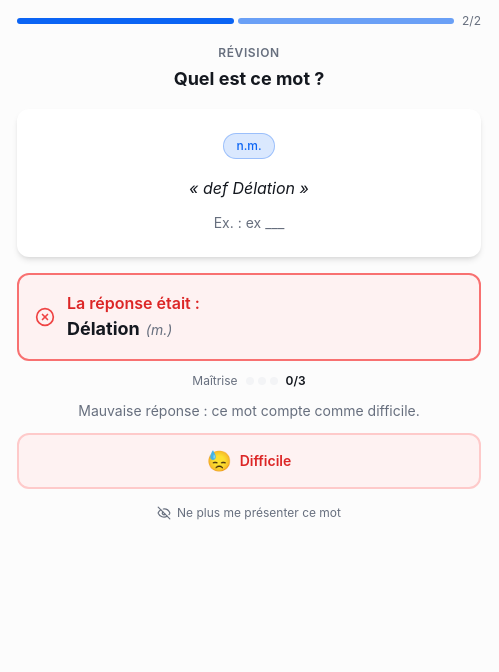
Test: DailyWord — compteur de fin de session › 2 mots répondus => « 2 révisions faites »
Earlier steps of the test are not shown.
Click the button "😓 Difficile" at (249, 461), box [17,433,481,489]
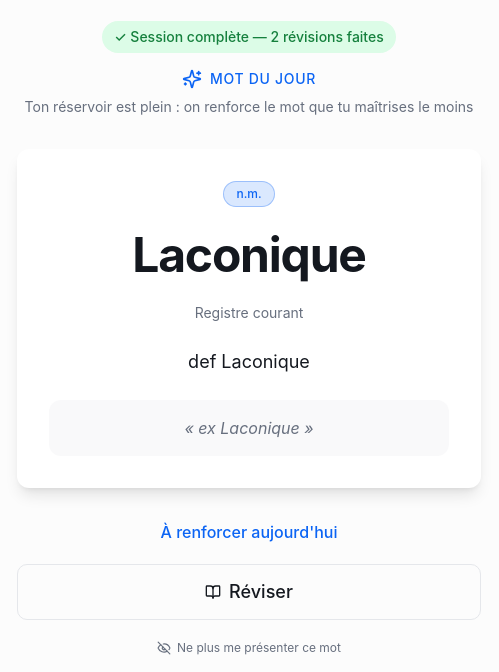
Check: the text "✓ Session complète — 2 révisions faites" is shown, box [102,21,396,53]
